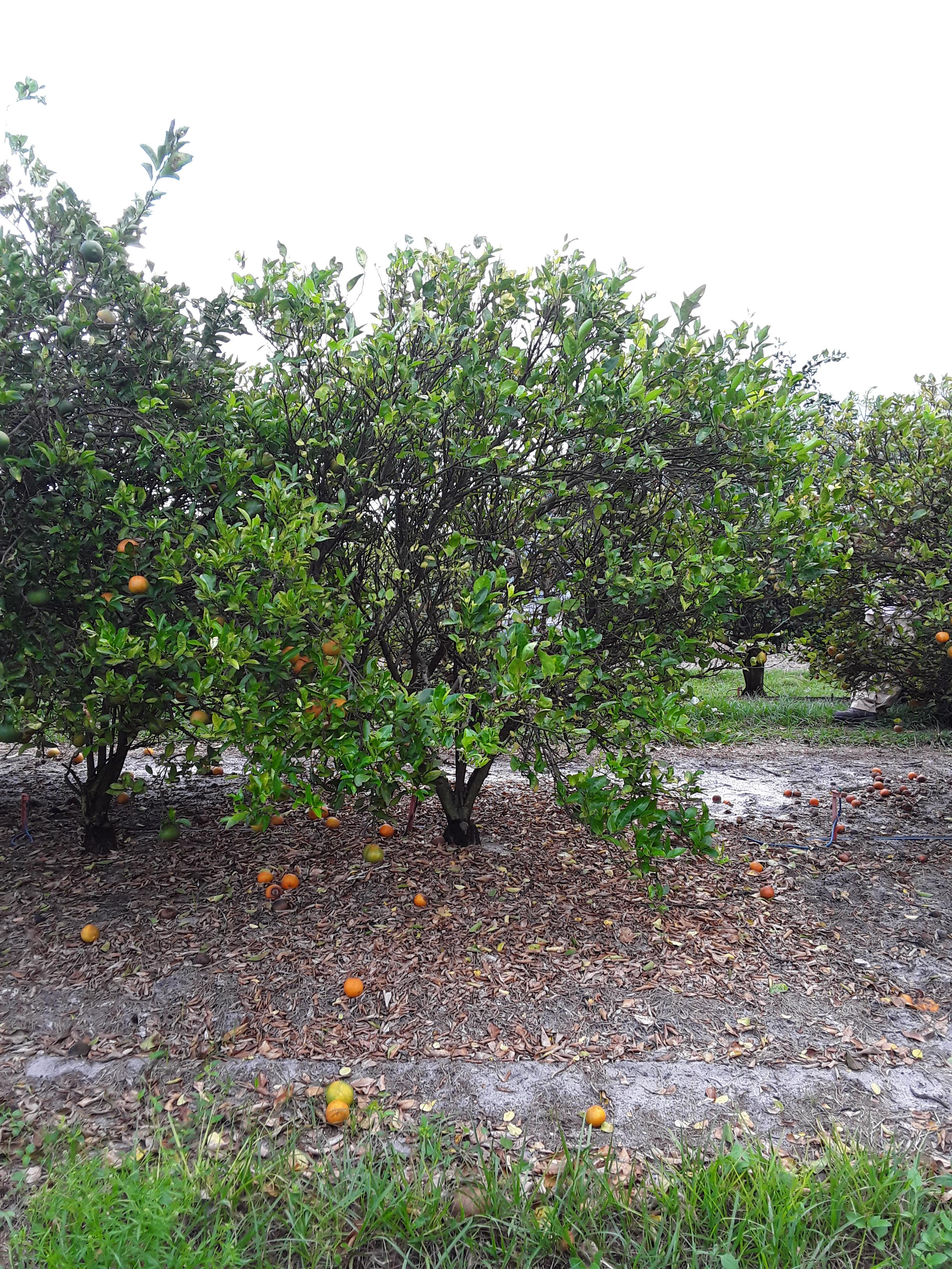fruit_on_ground: (78, 235, 106, 263), (24, 582, 51, 607), (290, 654, 318, 678), (251, 450, 278, 474), (114, 535, 142, 558), (315, 653, 343, 676), (300, 699, 326, 723), (327, 692, 352, 716), (127, 572, 151, 596), (94, 306, 118, 329), (268, 781, 291, 803), (277, 642, 301, 663), (188, 708, 212, 729), (96, 591, 120, 611), (54, 323, 76, 344), (320, 637, 343, 657), (0, 720, 19, 744), (209, 611, 230, 632), (365, 843, 385, 865), (170, 685, 191, 705), (147, 715, 167, 736), (362, 842, 382, 862), (55, 399, 76, 418), (248, 815, 268, 834), (0, 429, 12, 456), (70, 731, 87, 747), (935, 628, 950, 645), (860, 487, 876, 501), (941, 640, 952, 660), (754, 650, 768, 664), (826, 645, 839, 656), (834, 652, 847, 662), (814, 674, 820, 680)
fruit_on_tree: (448, 1182, 492, 1222), (323, 1079, 355, 1106), (323, 1100, 352, 1126), (584, 1102, 608, 1129), (78, 920, 102, 946), (342, 974, 365, 999), (158, 823, 184, 845), (67, 1037, 92, 1059), (262, 883, 286, 902), (305, 803, 330, 821), (279, 871, 302, 890), (157, 904, 179, 922), (254, 866, 274, 885), (192, 951, 212, 968), (411, 891, 429, 909), (377, 821, 396, 838), (757, 883, 775, 900), (323, 814, 341, 830), (114, 789, 131, 805), (269, 811, 287, 826), (747, 858, 764, 873), (430, 834, 447, 847), (70, 752, 86, 765), (45, 745, 61, 758), (121, 768, 136, 781), (211, 764, 226, 776), (837, 851, 851, 863), (877, 786, 892, 797), (845, 794, 860, 805), (710, 792, 723, 804), (141, 745, 155, 756), (835, 822, 847, 834), (781, 787, 794, 798), (808, 795, 821, 806), (865, 782, 878, 792), (873, 781, 886, 791), (870, 766, 884, 775), (892, 724, 904, 734), (907, 770, 918, 780), (792, 788, 803, 798), (870, 771, 882, 779), (917, 774, 927, 783), (898, 784, 909, 792), (782, 822, 793, 830), (874, 775, 885, 782), (901, 788, 910, 796)
